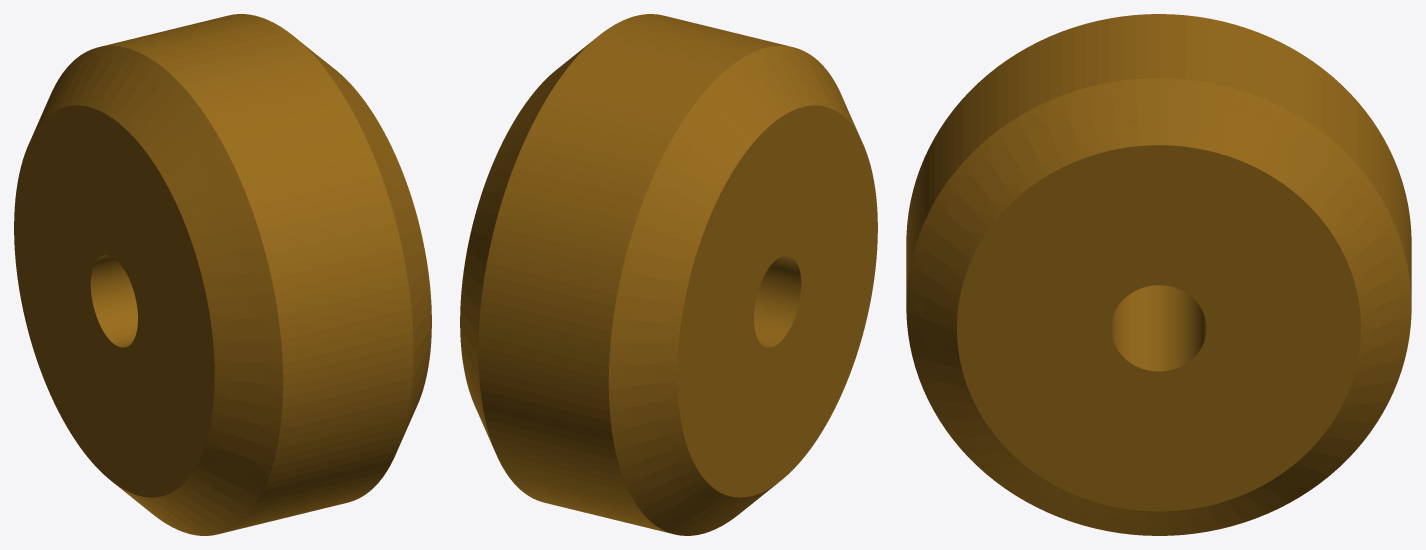
The model's file is caster_wheel.dae.
The picture shows the model from 3 angles, left to right: view 1: azimuth 30°, elevation 25°; view 2: azimuth 150°, elevation 25°; view 3: azimuth 270°, elevation 25°; orthographic projection.
Visible parts, largest first — view 1: caster_wheel; view 2: caster_wheel; view 3: caster_wheel.
Part boxes in pixels (x1=…): caster_wheel: x1=14, y1=14, x2=431, y2=535; caster_wheel: x1=460, y1=14, x2=877, y2=535; caster_wheel: x1=906, y1=14, x2=1411, y2=535.
Size of the model in its own units: 0.042 by 0.084 by 0.084.
